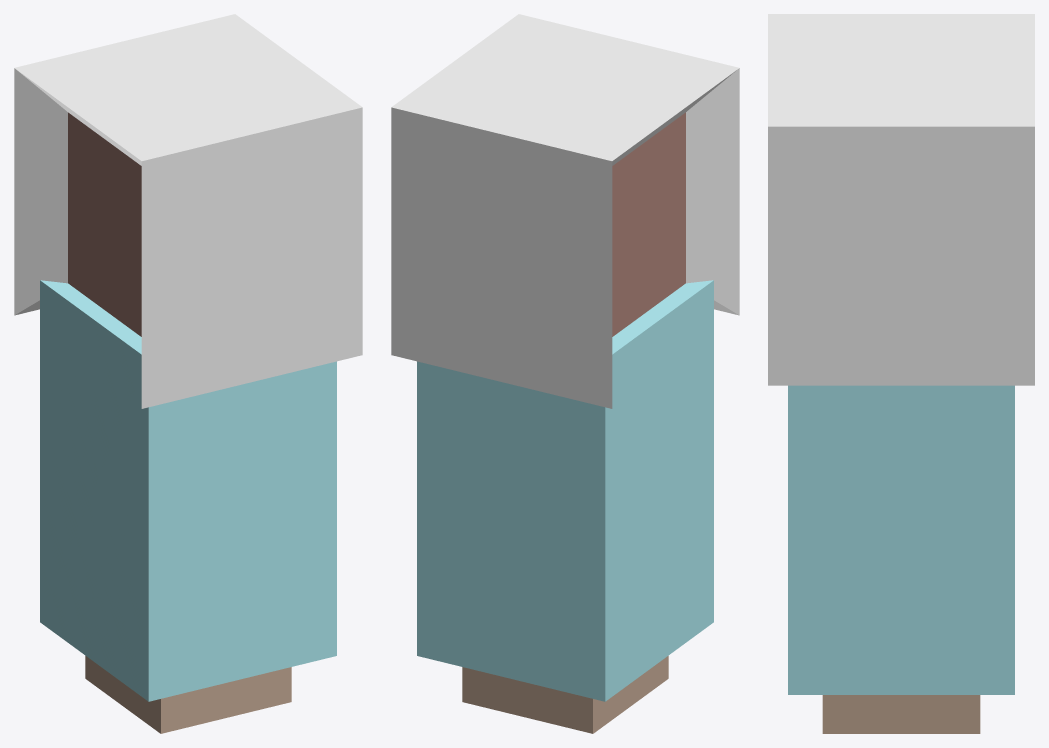
Rendered from Warrior V2.fbx.
3 renders of one model, left to right at view 1: azimuth 30°, elevation 25°; view 2: azimuth 150°, elevation 25°; view 3: azimuth 270°, elevation 25°, orthographic. The views are drawn at different scales.
Visible parts, largest first — view 1: Warrior; view 2: Warrior; view 3: Warrior.
Part boxes in pixels (bbox=[...]): Warrior: bbox=[14, 14, 362, 733]; Warrior: bbox=[391, 14, 739, 733]; Warrior: bbox=[768, 14, 1034, 733].
Size of the model in its own units: 338 by 881 by 338.
